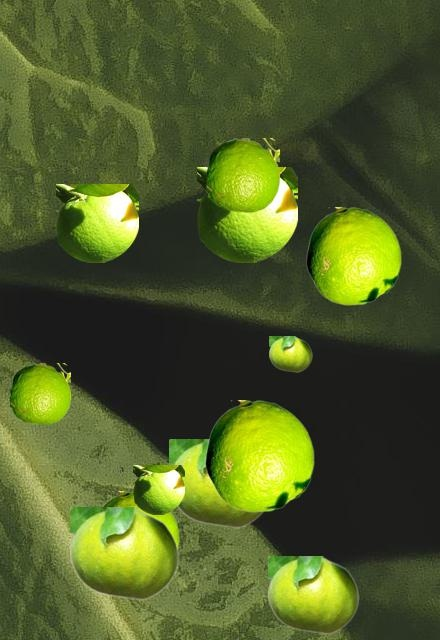dalandan: (205, 400, 313, 511), (70, 507, 178, 599), (197, 167, 296, 261), (306, 207, 400, 304), (169, 439, 264, 527), (268, 556, 358, 633), (56, 184, 137, 261), (206, 138, 278, 211), (102, 491, 178, 545), (10, 363, 69, 423), (133, 465, 183, 513), (269, 336, 311, 371)
